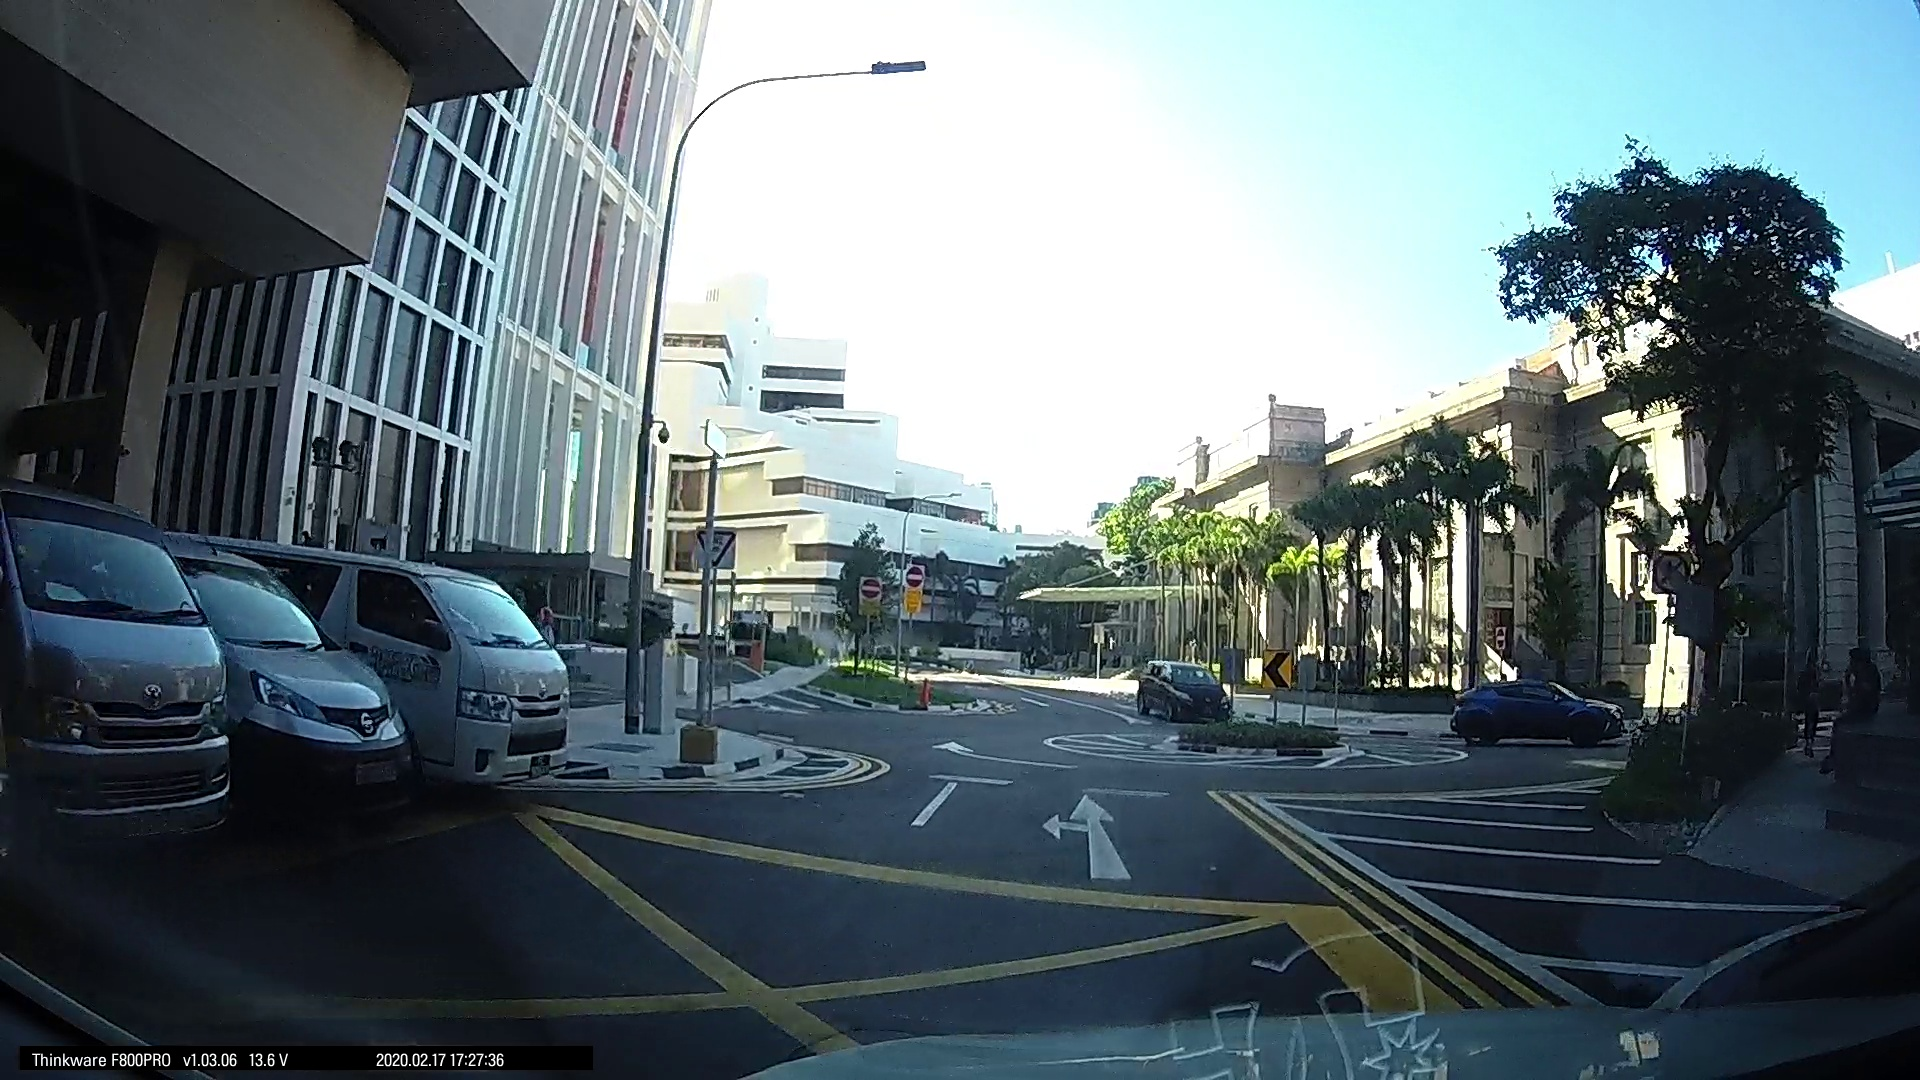Light Vehicle: (1, 483, 251, 862), (216, 543, 582, 796), (152, 539, 429, 795), (1447, 673, 1617, 745), (1130, 659, 1233, 723)
